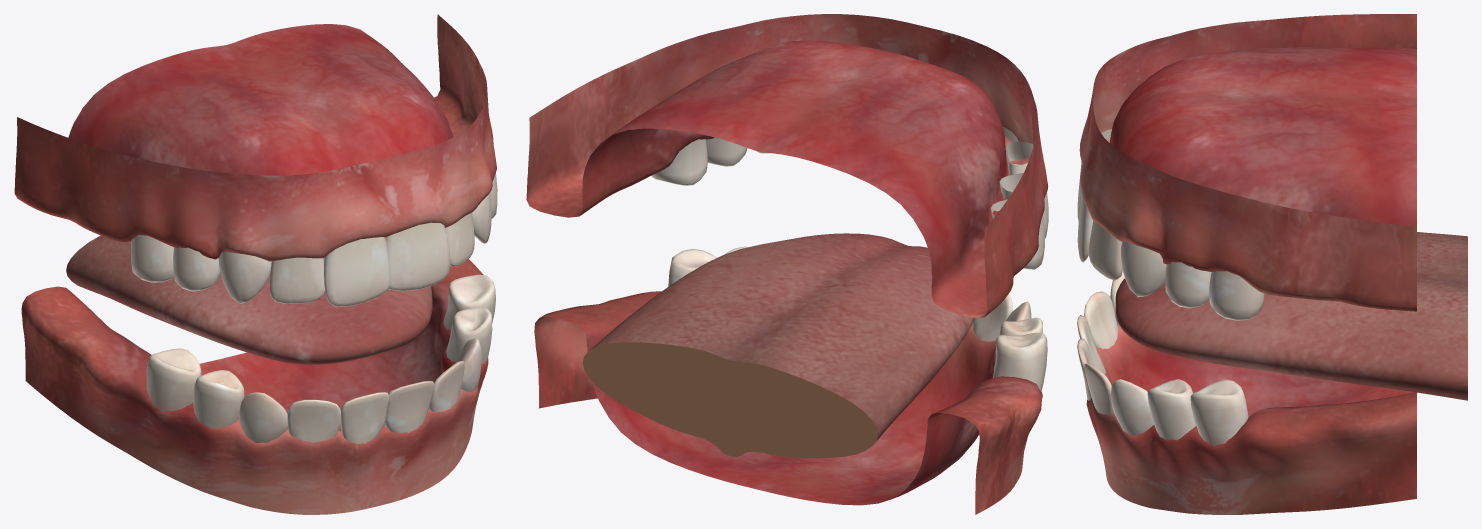
The model's file is ChildTeethNamed.glb.
3 renders of one model, left to right at view 1: azimuth 30°, elevation 25°; view 2: azimuth 150°, elevation 25°; view 3: azimuth 270°, elevation 25°, orthographic. The views are drawn at different scales.
Visible parts, largest first — view 1: EnciaSuperior, EnciaInferior, Lengua, IncisivoCentralSuperior1, IncisivoCentralSuperior2, SegundoPremolarInferior1, PrimerPremolarInferior1, IncisivoLateralSuperior1, IncisivoLateralInferior1, IncisivoCentralInferior1, CaninoSuperior1, CaninoInferior1 (+9 smaller); view 2: EnciaSuperior, Lengua, EnciaInferior, SegundoPremolarInferior1, SegundoPremolarSuperior2, IncisivoLateralInferior1, SegundoPremolarInferior2, PrimerPremolarSuperior2, PrimerPremolarInferior1, CaninoSuperior1; view 3: EnciaSuperior, EnciaInferior, Lengua, SegundoPremolarInferior2, PrimerPremolarInferior2, SegundoPremolarSuperior2, CaninoSuperior2, CaninoInferior2, PrimerPremolarSuperior2, IncisivoLateralInferior1, IncisivoLateralSuperior2, IncisivoLateralInferior2 (+3 smaller).
Part boxes in pixels (<box>): EnciaSuperior: <box>14,14,496,261</box>; EnciaInferior: <box>21,259,488,514</box>; Lengua: <box>66,235,432,364</box>; IncisivoCentralSuperior1: <box>323,237,389,306</box>; IncisivoCentralSuperior2: <box>385,222,450,291</box>; SegundoPremolarInferior1: <box>146,348,201,411</box>; PrimerPremolarInferior1: <box>193,370,244,428</box>; IncisivoLateralSuperior1: <box>269,257,325,303</box>; IncisivoLateralInferior1: <box>287,399,340,442</box>; IncisivoCentralInferior1: <box>340,392,389,443</box>; CaninoSuperior1: <box>218,252,271,303</box>; CaninoInferior1: <box>239,392,287,442</box>; EnciaSuperior: <box>526,14,1048,317</box>; Lengua: <box>582,233,974,458</box>; EnciaInferior: <box>534,291,1042,514</box>; SegundoPremolarInferior1: <box>993,332,1047,391</box>; SegundoPremolarSuperior2: <box>652,139,707,185</box>; IncisivoLateralInferior1: <box>973,294,1012,341</box>; SegundoPremolarInferior2: <box>668,249,716,286</box>; PrimerPremolarSuperior2: <box>705,137,747,166</box>; PrimerPremolarInferior1: <box>993,317,1042,370</box>; CaninoSuperior1: <box>1006,141,1033,175</box>; EnciaSuperior: <box>1079,14,1416,311</box>; EnciaInferior: <box>1086,324,1416,514</box>; Lengua: <box>1115,232,1467,400</box>; SegundoPremolarInferior2: <box>1190,379,1248,446</box>; PrimerPremolarInferior2: <box>1147,379,1195,440</box>; SegundoPremolarSuperior2: <box>1209,271,1263,320</box>; CaninoSuperior2: <box>1121,241,1166,297</box>; CaninoInferior2: <box>1111,379,1154,435</box>; PrimerPremolarSuperior2: <box>1165,262,1211,308</box>; IncisivoLateralInferior1: <box>1084,291,1118,348</box>; IncisivoLateralSuperior2: <box>1088,220,1122,280</box>; IncisivoLateralInferior2: <box>1084,363,1113,414</box>.
Bounding box in the file's own units: 2.12 × 1.71 × 1.62.
Materials: 3 (3 with a texture image).
